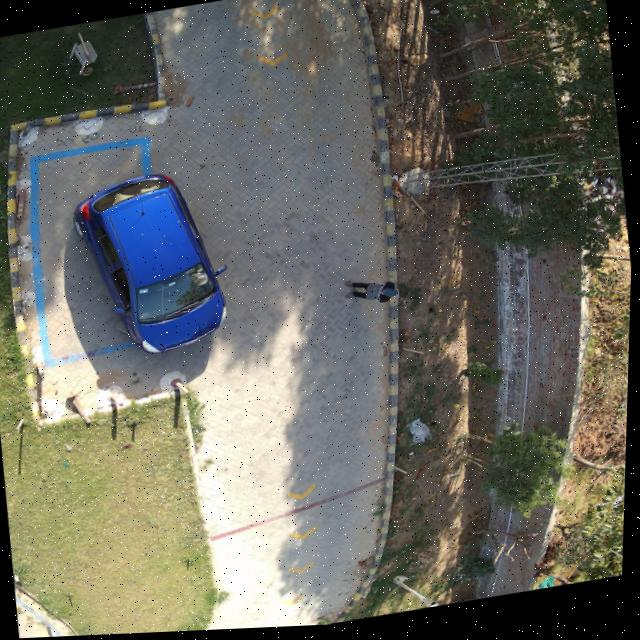car: (75, 175, 227, 355)
